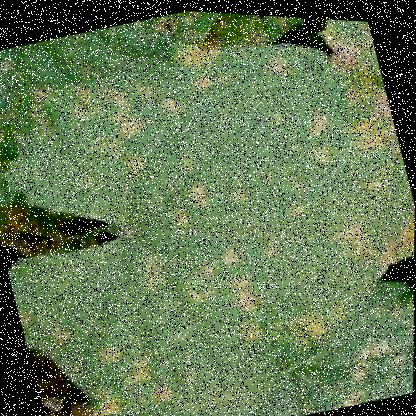Anthracnose: (24, 176, 358, 415), (34, 30, 307, 272), (208, 13, 415, 277)
